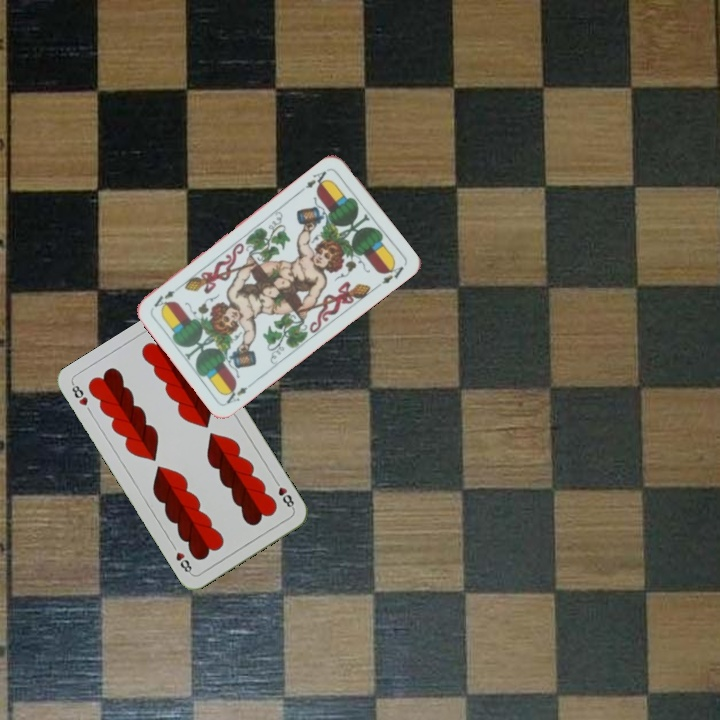EA: (297, 165, 332, 194), (221, 382, 250, 406)
H8: (270, 475, 297, 512), (68, 380, 91, 409)
